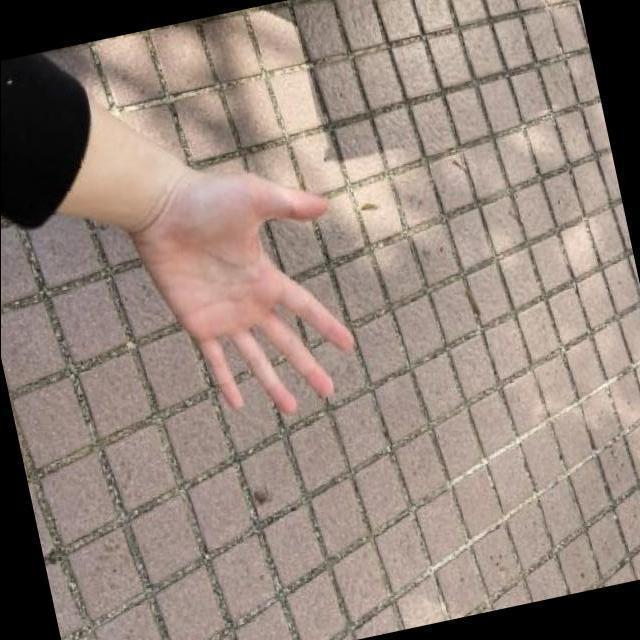hand: (104, 134, 378, 452)
